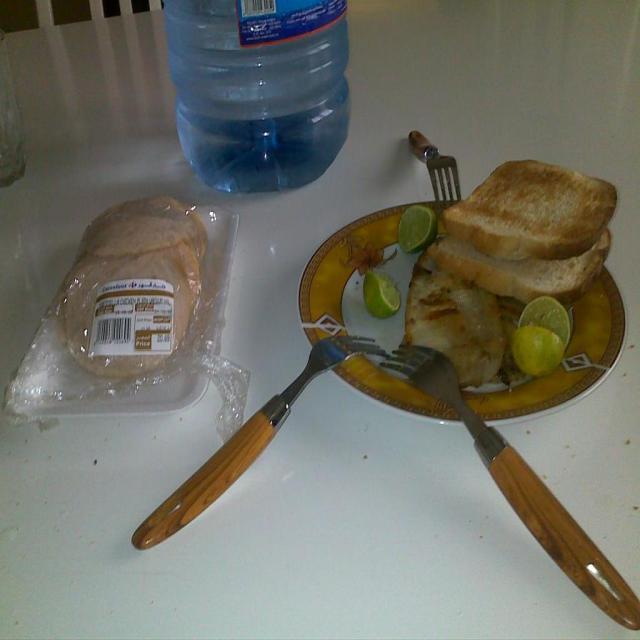Lemon: (512, 296, 570, 372), (362, 274, 401, 319), (400, 204, 434, 247)
